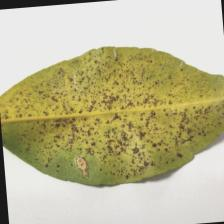canker: (57, 72, 161, 149)
